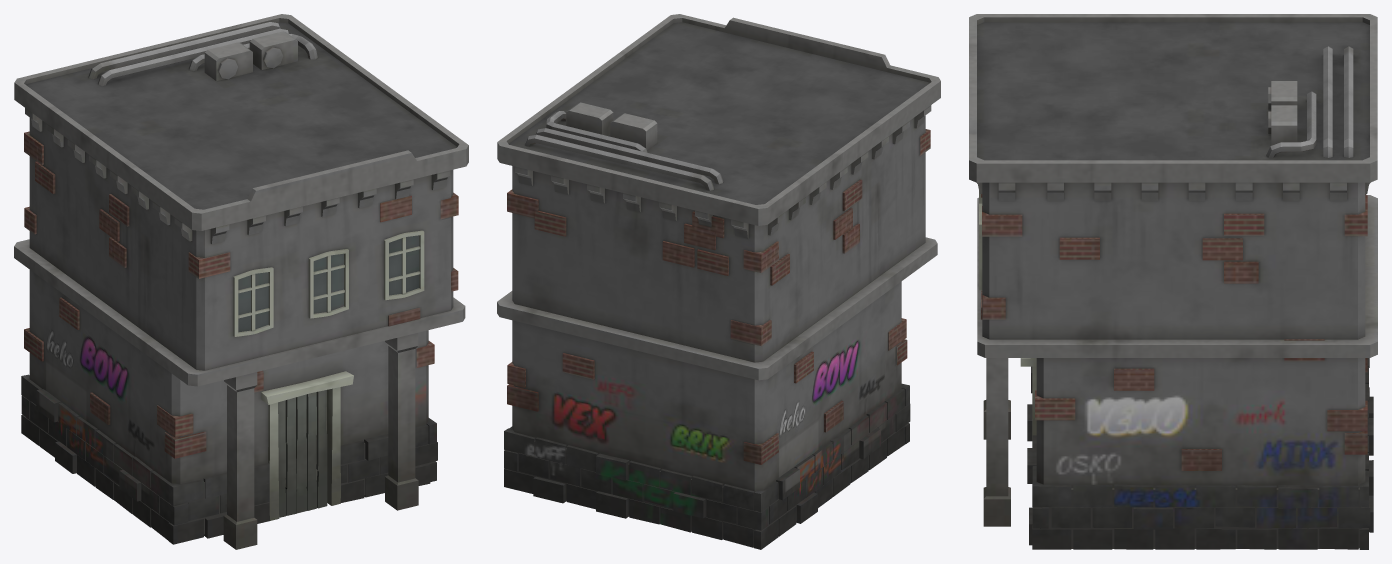
The model's file is 2Story_Columns.glb.
3 views of the same model, side by side, from view 1: azimuth 30°, elevation 25°; view 2: azimuth 150°, elevation 25°; view 3: azimuth 270°, elevation 25° (orthographic). The views are drawn at different scales.
Visible parts, largest first — view 1: 2Story_Columns_low; view 2: 2Story_Columns_low; view 3: 2Story_Columns_low.
Part boxes in pixels (left/top/right/bottom): 2Story_Columns_low: left=14, top=14, right=468, bottom=549; 2Story_Columns_low: left=497, top=14, right=940, bottom=549; 2Story_Columns_low: left=969, top=14, right=1377, bottom=549.
Size of the model in its own units: 2.16 by 2.77 by 2.49.
2 materials, 2 textured.
